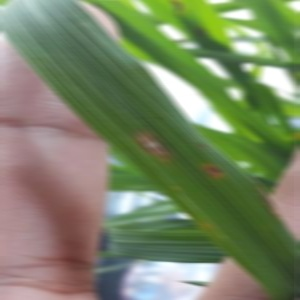Brown_Spot: (190, 152, 240, 198), (126, 116, 170, 167)
